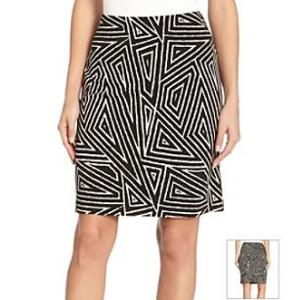C_skirt: (65, 11, 227, 224), (234, 240, 272, 288)
